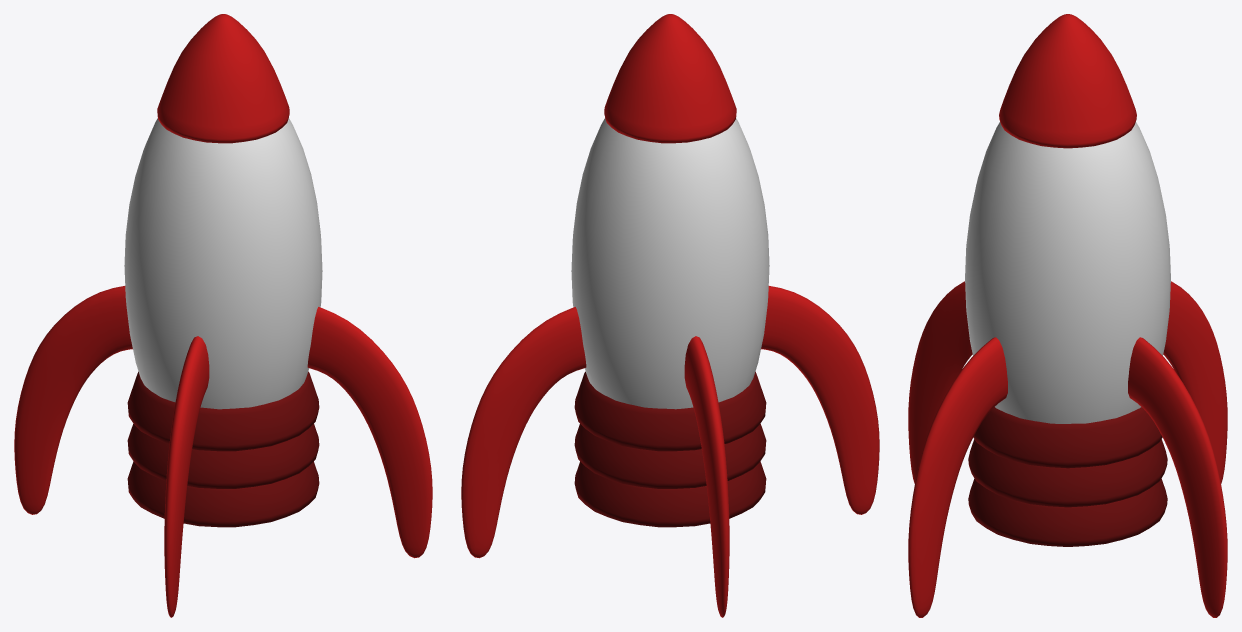
File: Rocket.fbx
The picture shows the model from 3 angles, left to right: view 1: azimuth 30°, elevation 25°; view 2: azimuth 150°, elevation 25°; view 3: azimuth 270°, elevation 25°; orthographic projection. The views are drawn at different scales.
Visible parts, largest first — view 1: Sphere, Cube.001, Cylinder, Cylinder.003; view 2: Sphere, Cube.001, Cylinder, Cylinder.003; view 3: Sphere, Cube.001, Cylinder, Cylinder.003.
Part boxes in pixels (box(x1,y1,x2,y2)): Sphere: box(124, 118, 322, 409); Cube.001: box(14, 286, 432, 617); Cylinder: box(127, 371, 319, 527); Cylinder.003: box(157, 14, 289, 143); Sphere: box(571, 118, 769, 409); Cube.001: box(461, 286, 879, 617); Cylinder: box(574, 371, 766, 527); Cylinder.003: box(604, 14, 736, 143); Sphere: box(965, 122, 1170, 423); Cube.001: box(908, 281, 1227, 617); Cylinder: box(968, 407, 1167, 546); Cylinder.003: box(999, 14, 1136, 148).
Bounding box in the file's own units: 244 × 456 × 244.
